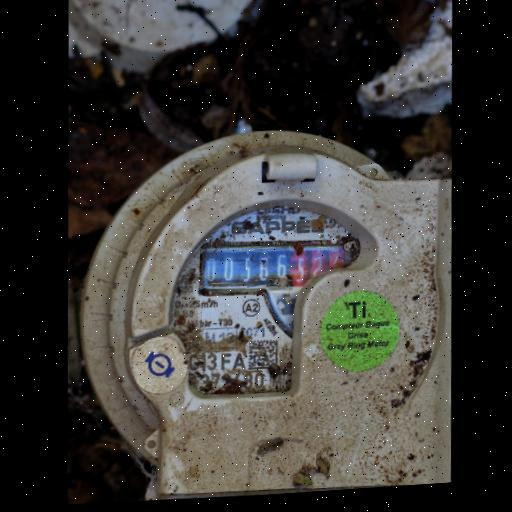0: (203, 251, 220, 288), (221, 251, 238, 288)
2: (310, 250, 326, 279)
5: (289, 249, 308, 286), (239, 251, 256, 287)
6: (255, 251, 272, 287), (274, 251, 290, 287)
border_water_meter_number: (198, 232, 358, 298)
